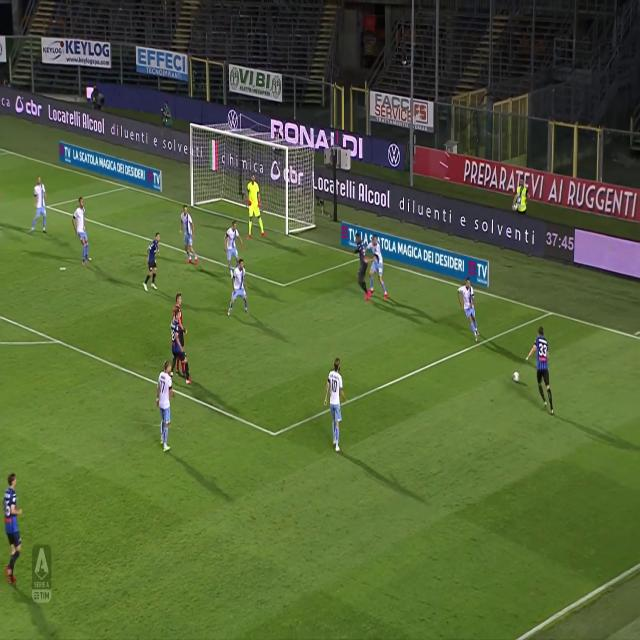Ball: (512, 369, 524, 385)
GoalKeeper: (246, 172, 264, 241)
TEAM 1: (2, 477, 25, 587), (528, 329, 554, 416), (170, 306, 190, 382), (349, 234, 369, 307), (146, 234, 162, 293)
TEAM 2: (155, 362, 175, 452), (458, 278, 481, 342), (72, 196, 93, 265), (329, 364, 345, 452), (226, 260, 249, 316), (29, 176, 49, 235), (369, 236, 386, 302), (181, 206, 198, 267), (223, 221, 244, 267)
